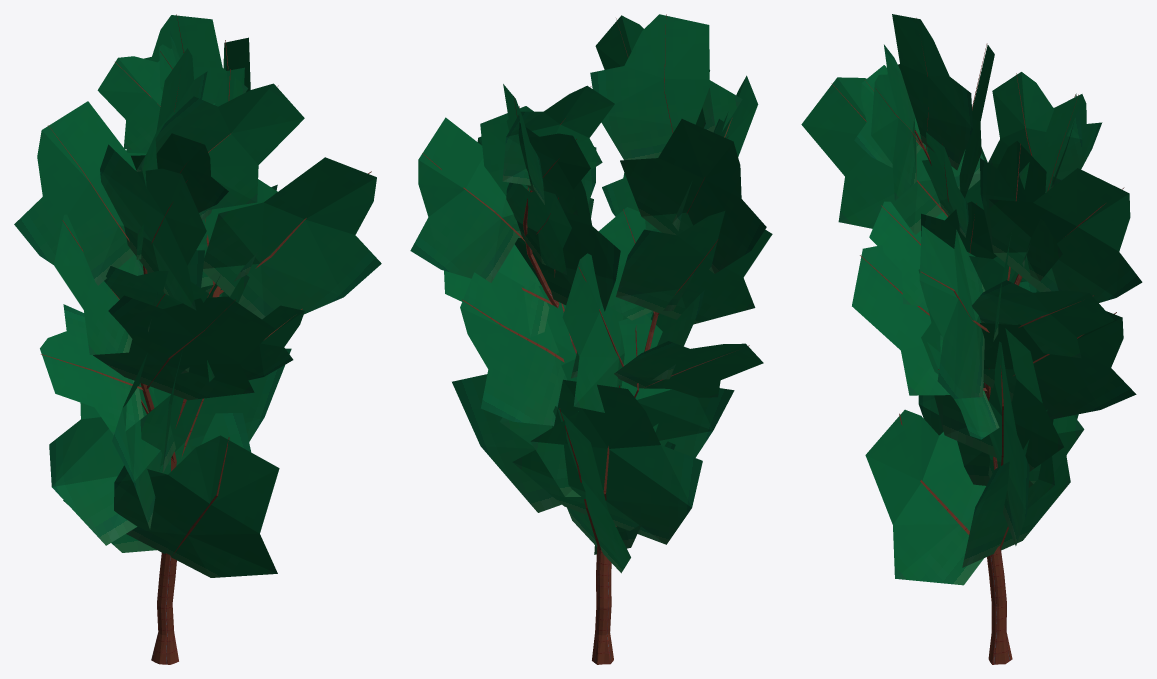
The model's file is Birch_Tree_03.fbx.
3 views of the same model, side by side, from view 1: azimuth 30°, elevation 25°; view 2: azimuth 150°, elevation 25°; view 3: azimuth 270°, elevation 25° (orthographic). The views are drawn at different scales.
Visible parts, largest first — view 1: SM_Tree_Birch_03.mo; view 2: SM_Tree_Birch_03.mo; view 3: SM_Tree_Birch_03.mo.
Boxes of the visible parts, left/top/right/bottom form: SM_Tree_Birch_03.mo: left=14, top=14, right=381, bottom=664; SM_Tree_Birch_03.mo: left=410, top=14, right=772, bottom=664; SM_Tree_Birch_03.mo: left=801, top=14, right=1142, bottom=664.
Bounding box in the file's own units: 958 × 1715 × 839.
